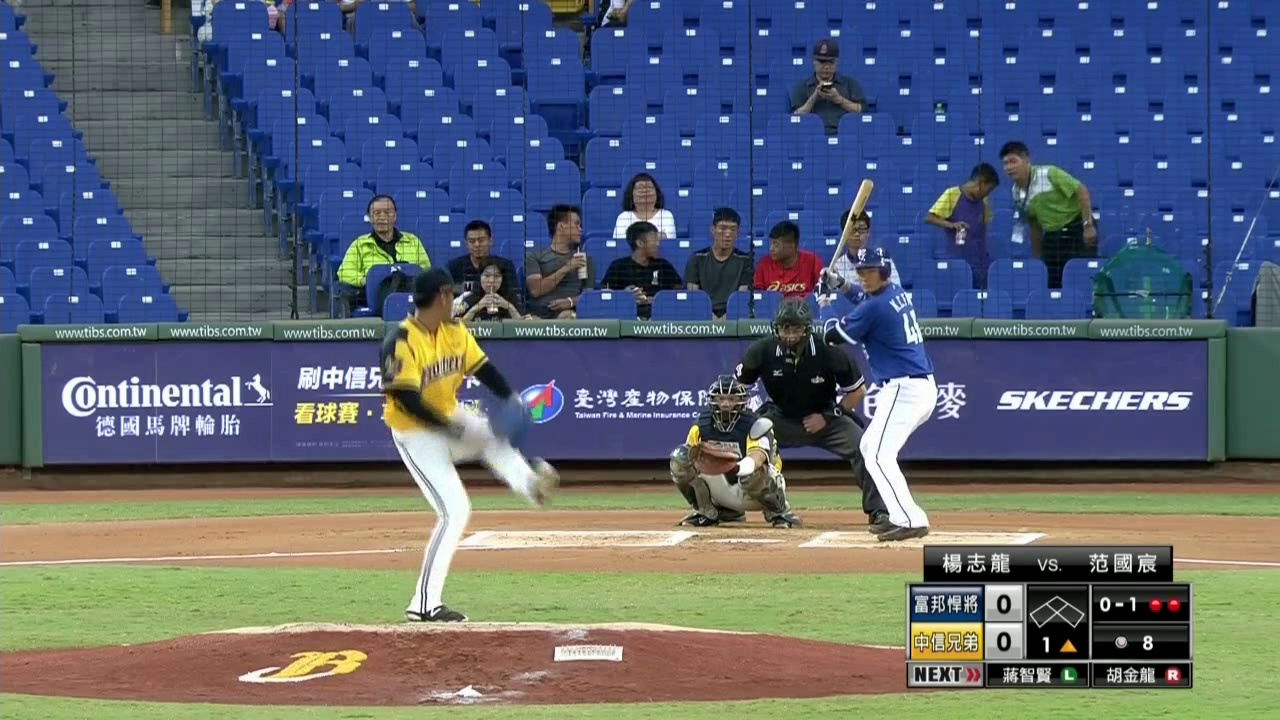base: (1028, 594, 1087, 628)
bat: (825, 176, 879, 276)
out: (1147, 597, 1182, 613)
score1: (985, 585, 1022, 620)
score2: (985, 622, 1022, 658)
session: (1036, 634, 1079, 654)
strikeball: (1096, 593, 1139, 612)
total: (1109, 630, 1161, 651)
